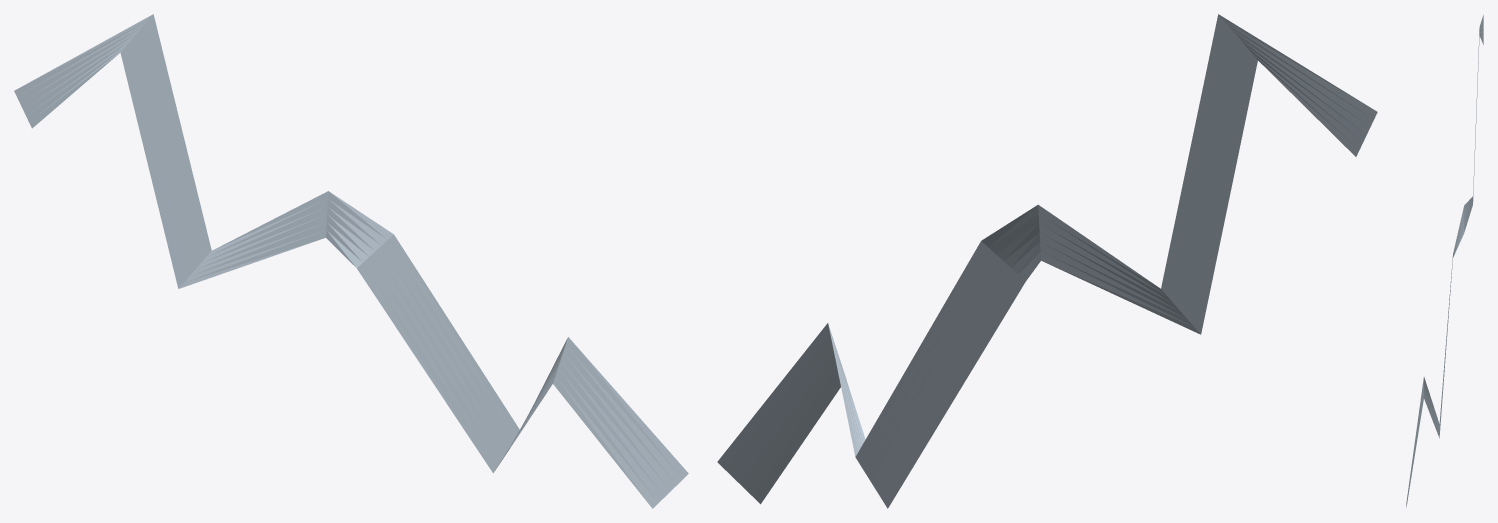
File: 2059_ElectroSurround_SurroundArc3.fbx
3 renders of one model, left to right at view 1: azimuth 30°, elevation 25°; view 2: azimuth 150°, elevation 25°; view 3: azimuth 270°, elevation 25°, orthographic. The views are drawn at different scales.
Visible parts, largest first — view 1: PART_SurroundArc3; view 2: PART_SurroundArc3; view 3: PART_SurroundArc3.
Part boxes in pixels (x1,y1,x2,y2): PART_SurroundArc3: [14, 14, 688, 508]; PART_SurroundArc3: [717, 14, 1377, 508]; PART_SurroundArc3: [1406, 15, 1483, 507].
Bounding box in the file's own units: 61.01 × 53.21 × 10.7.
